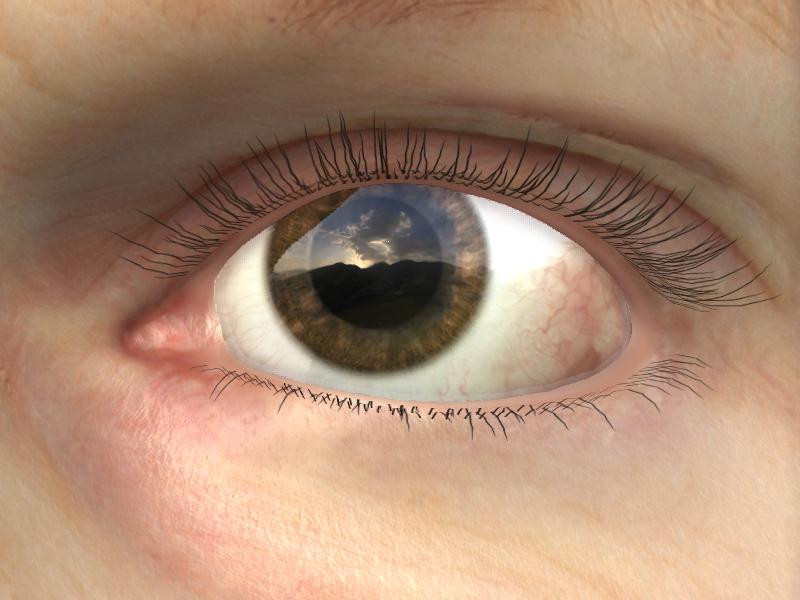eye: (273, 185, 489, 374)
